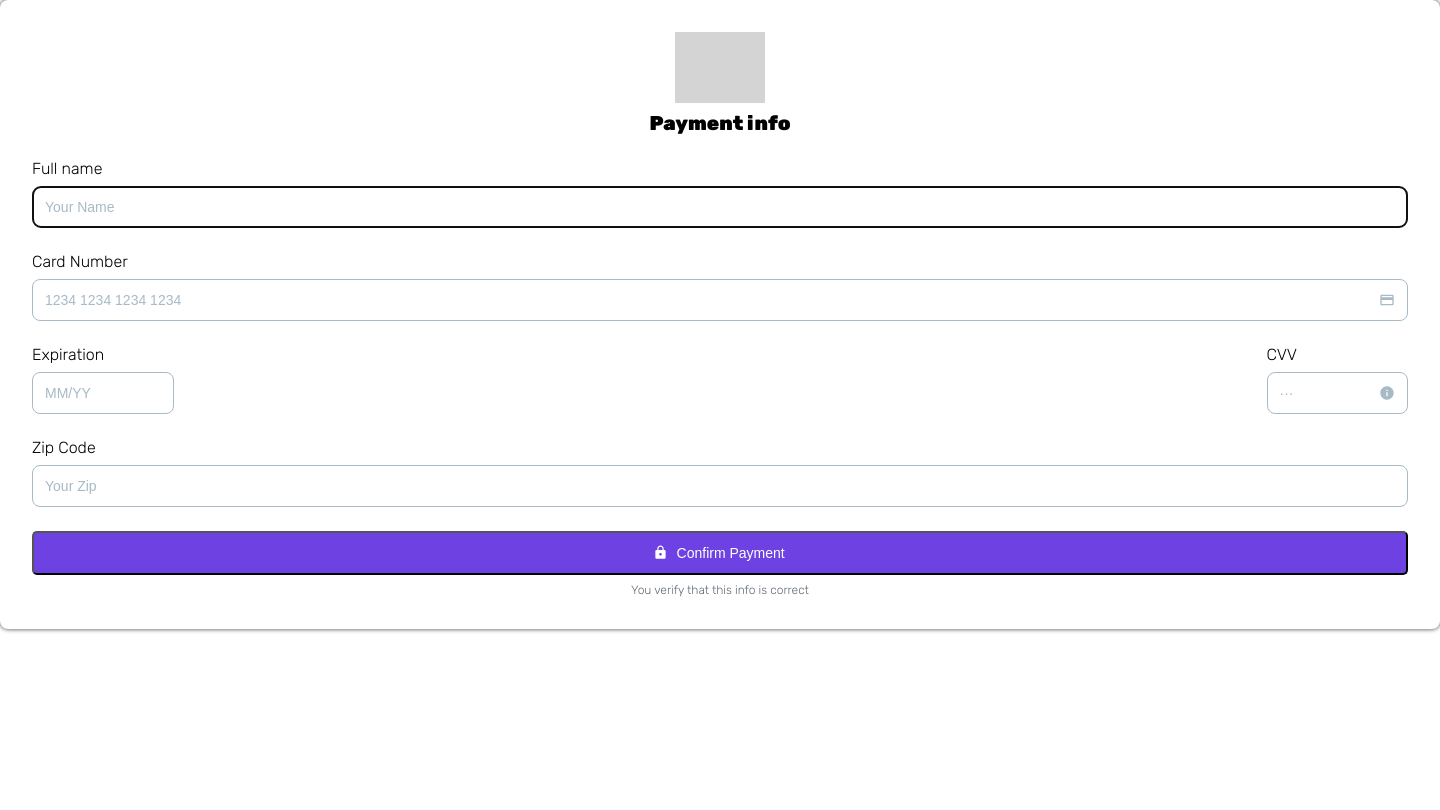
it: Checkout › If an invalid character is typed should not be rendered
Type "1234 5678 9p12 3456" into the field labelled "Card Number" at (720, 300), box [32, 279, 1408, 321]
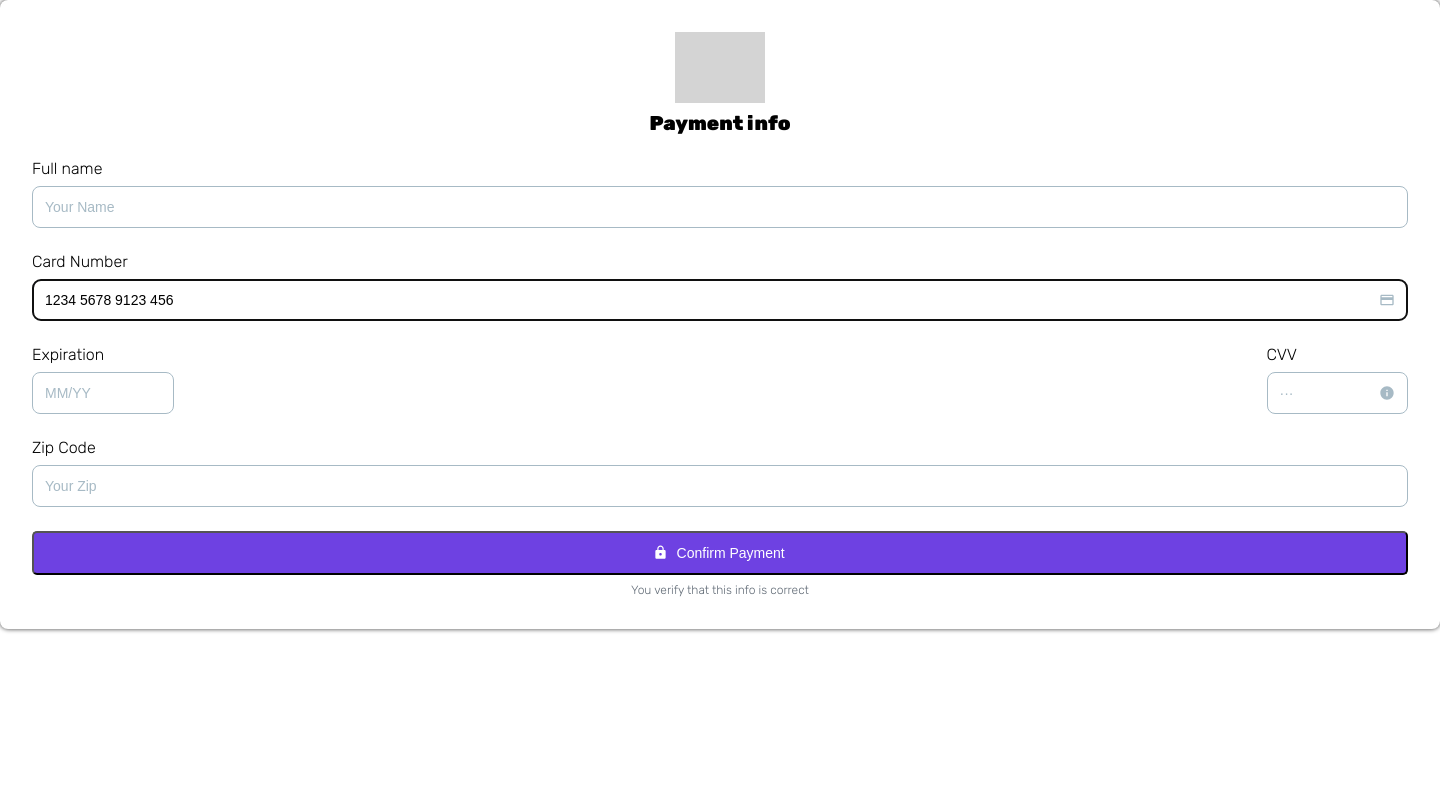
Now the field labelled "Card Number" holds "1234 5678 9123 456", box [32, 279, 1408, 321]
Type "1t34" into the field labelled "Expiration" at (103, 393), box [32, 372, 174, 414]
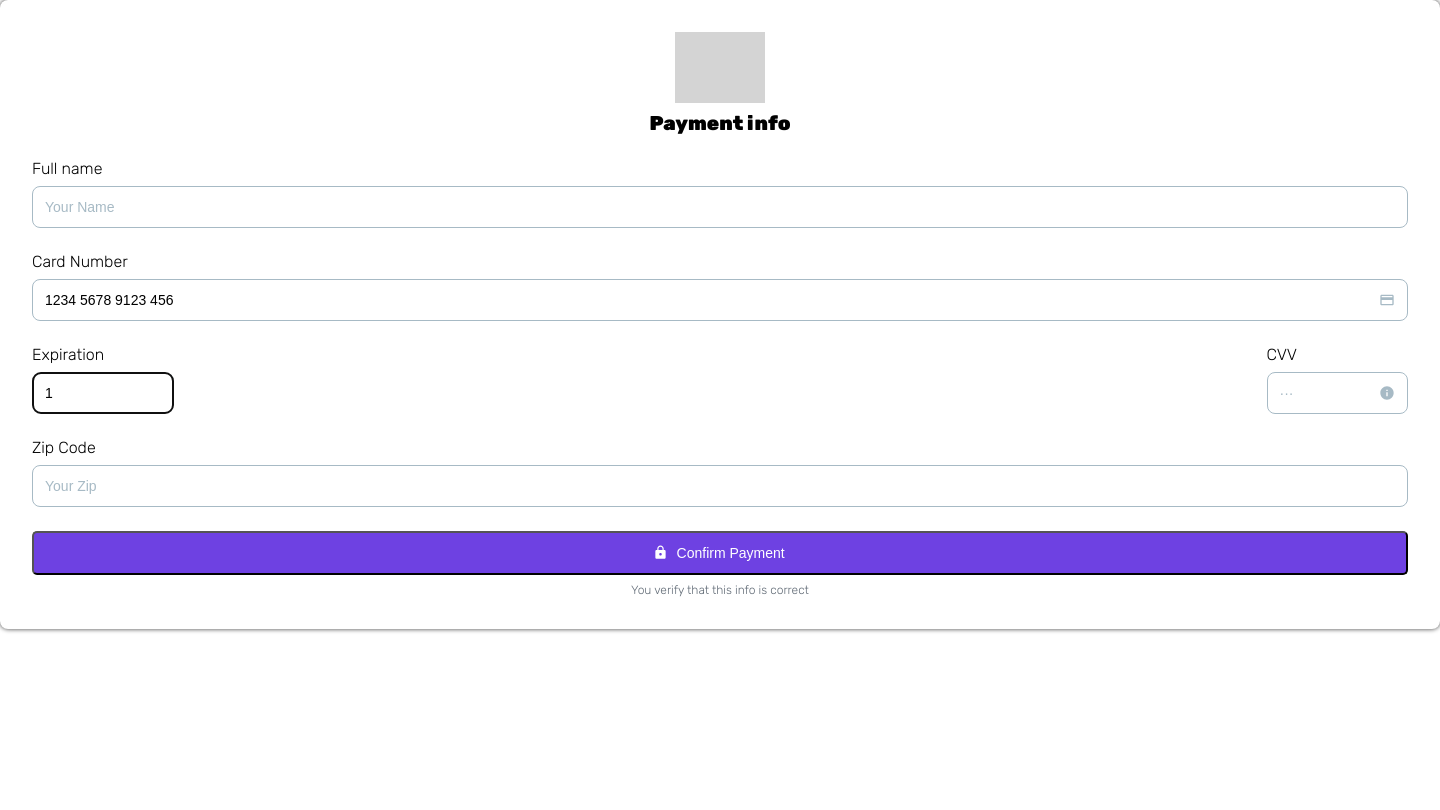
Now the field labelled "Expiration" holds "1", box [32, 372, 174, 414]
Type "1a3" into the field labelled "CVV" at (1337, 393), box [1266, 372, 1408, 414]
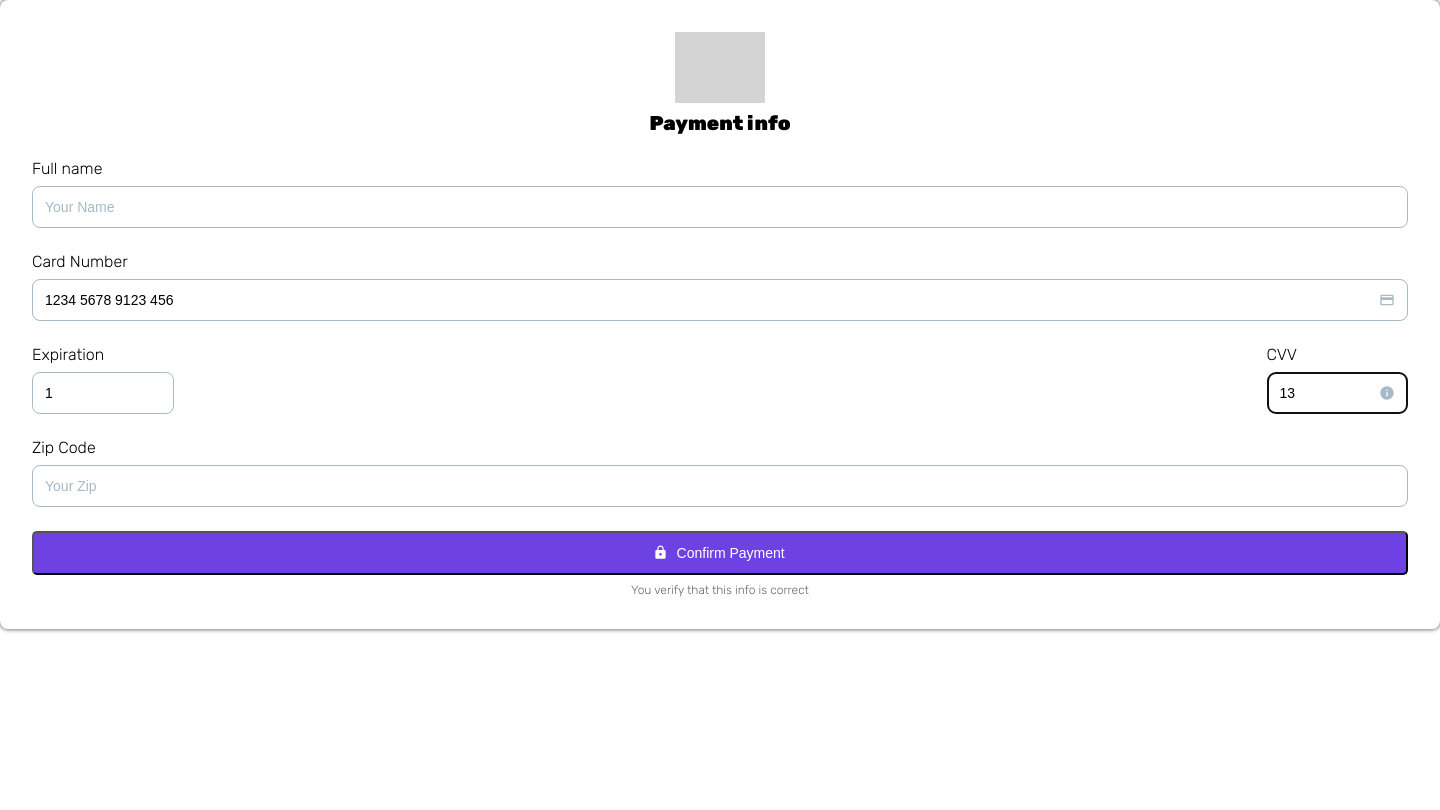
Now the field labelled "CVV" holds "13", box [1266, 372, 1408, 414]
